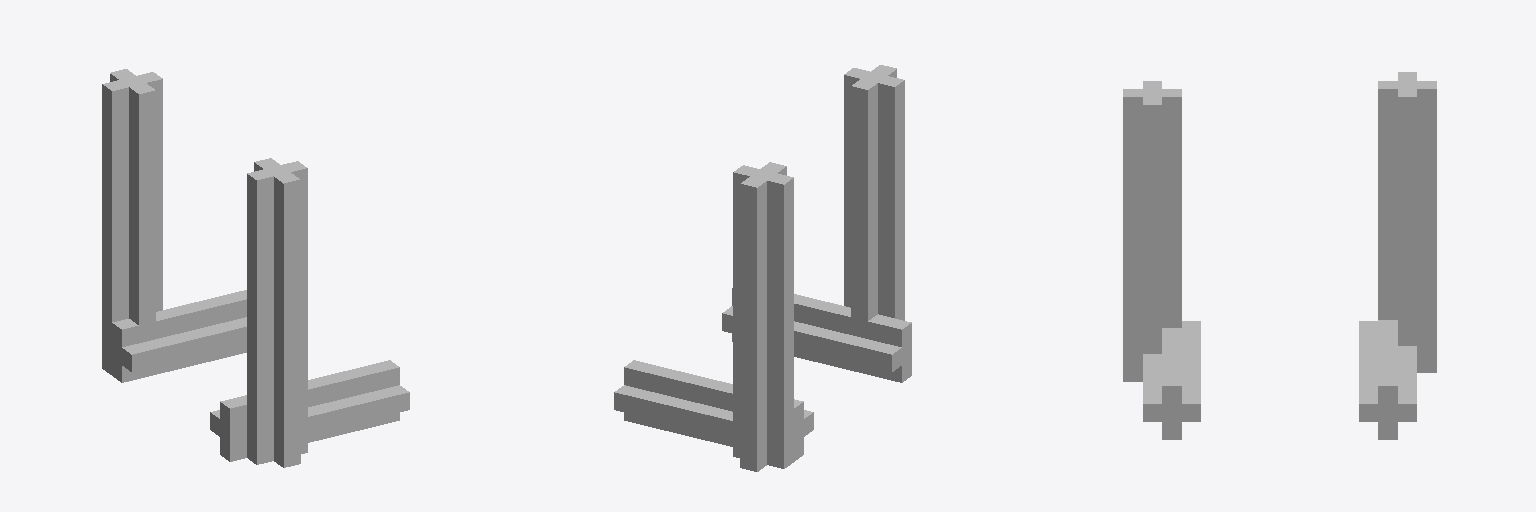
The model's file is pole_scaffolding_end.obj.
3 renders of one model, left to right at view 1: azimuth 30°, elevation 25°; view 2: azimuth 150°, elevation 25°; view 3: azimuth 270°, elevation 25°, orthographic.
Visible parts, largest first — view 1: node_0_0_0.003; view 2: node_0_0_0.003; view 3: node_0_0_0.003.
Boxes of the visible parts, x1=… form: node_0_0_0.003: x1=102, y1=69, x2=409, y2=467; node_0_0_0.003: x1=614, y1=65, x2=911, y2=471; node_0_0_0.003: x1=1123, y1=72, x2=1436, y2=439.
Size of the model in its own units: 0.625 by 1 by 1.